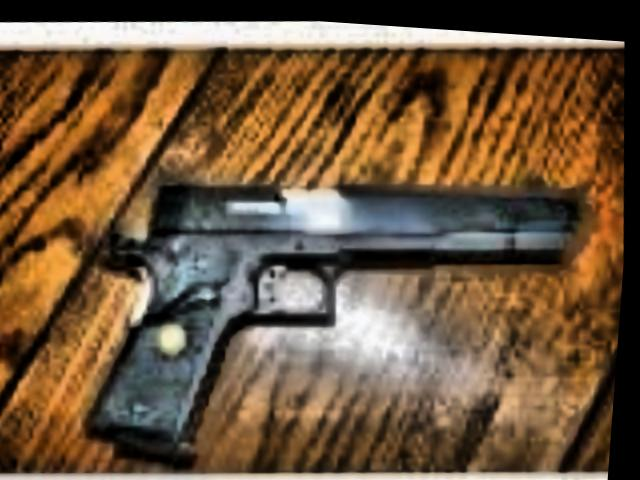pistol: (59, 133, 606, 480)
